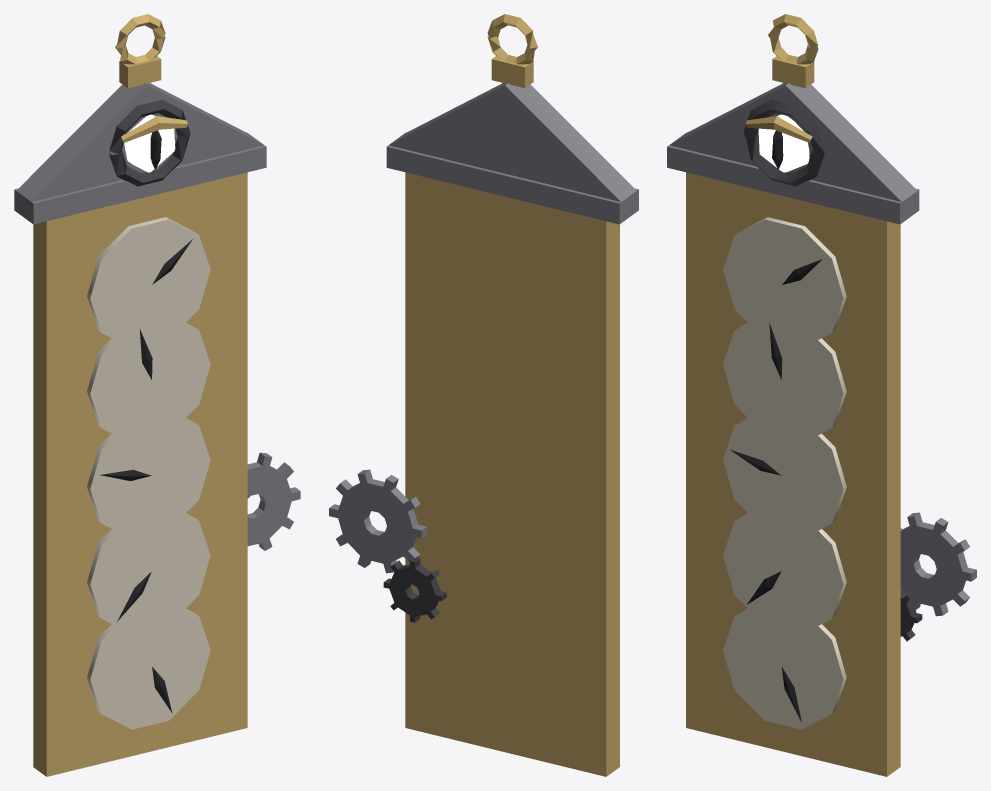
Rendered from astrolabe-timetable.glb.
3 views of the same model, side by side, from view 1: azimuth 30°, elevation 25°; view 2: azimuth 150°, elevation 25°; view 3: azimuth 330°, elevation 25° (orthographic).
Visible parts, largest first — view 1: astrolabe_timetable; view 2: astrolabe_timetable; view 3: astrolabe_timetable.
Boxes of the visible parts, bbox=[...] form: astrolabe_timetable: bbox=[14, 14, 300, 776]; astrolabe_timetable: bbox=[329, 14, 638, 776]; astrolabe_timetable: bbox=[667, 14, 976, 776].
Size of the model in its own units: 0.3214 by 0.7864 by 0.0686.
